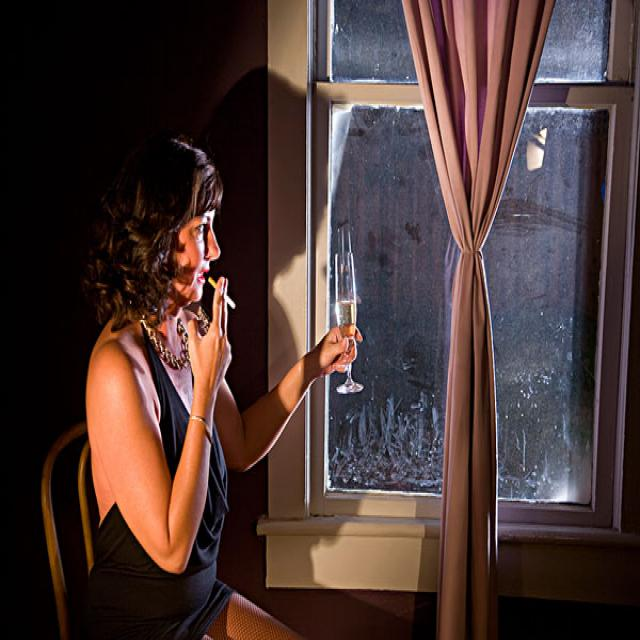smoking: (207, 276, 238, 308)
